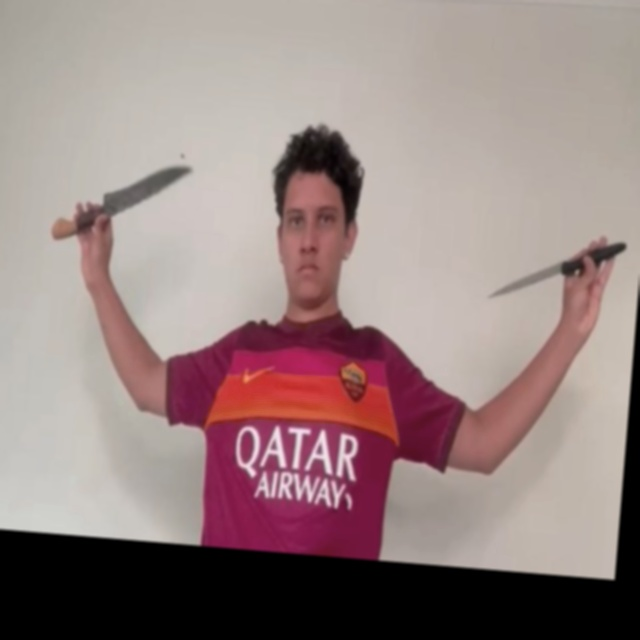Sharp-Object: (103, 159, 190, 224), (488, 254, 564, 305)
